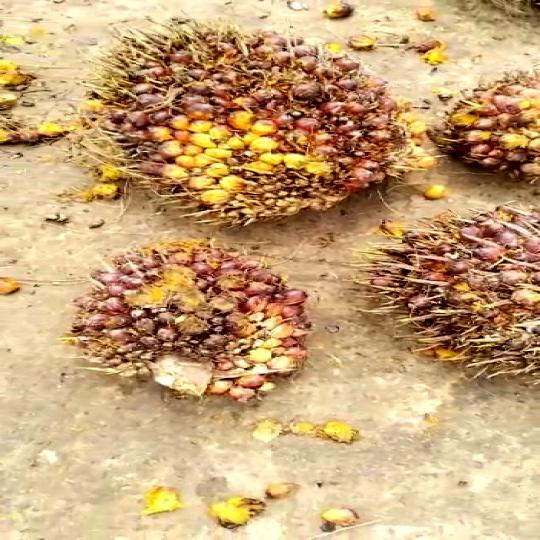masak: (62, 23, 419, 215), (59, 227, 332, 431), (427, 64, 540, 194)
